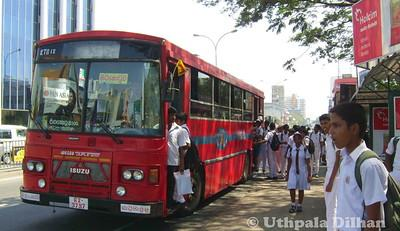bus: (19, 29, 266, 222)
